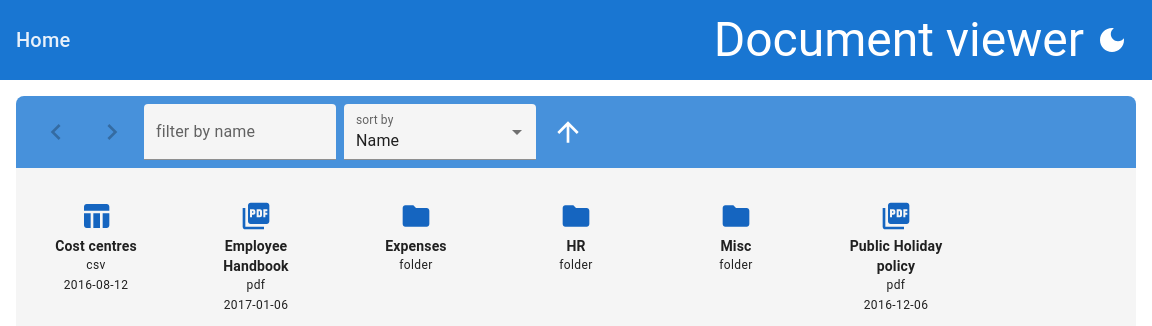
Test case: App › reverses sort direction when toggled
The width and height of the screenshot is (1152, 326).
Click the button named "Toggle sort direction" at (568, 132), box [544,108,592,156]
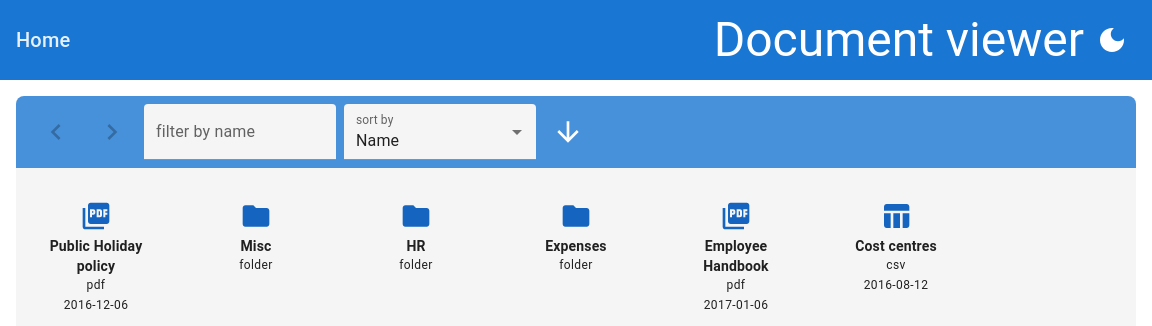
Check: the text "Public Holiday policy" is shown, box [50,238,142,274]
Check: the text "Cost centres" is shown, box [855,238,937,254]
